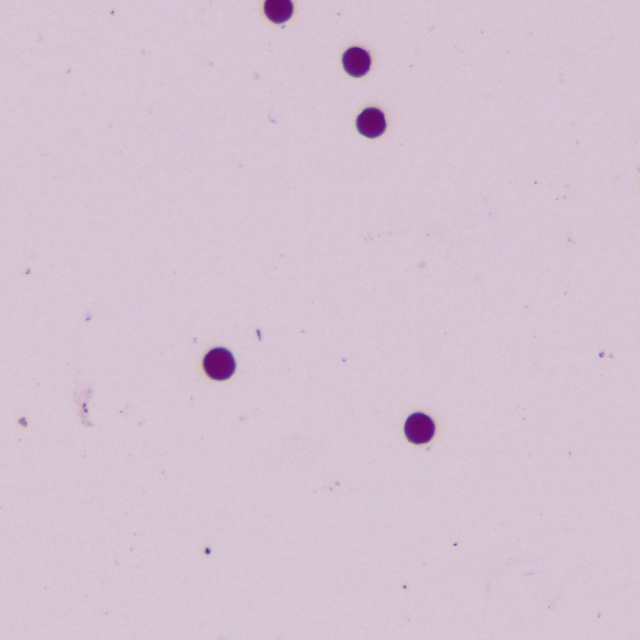viable: (204, 348, 235, 379), (405, 413, 434, 443), (357, 108, 385, 137), (343, 48, 370, 77), (265, 1, 292, 23)
